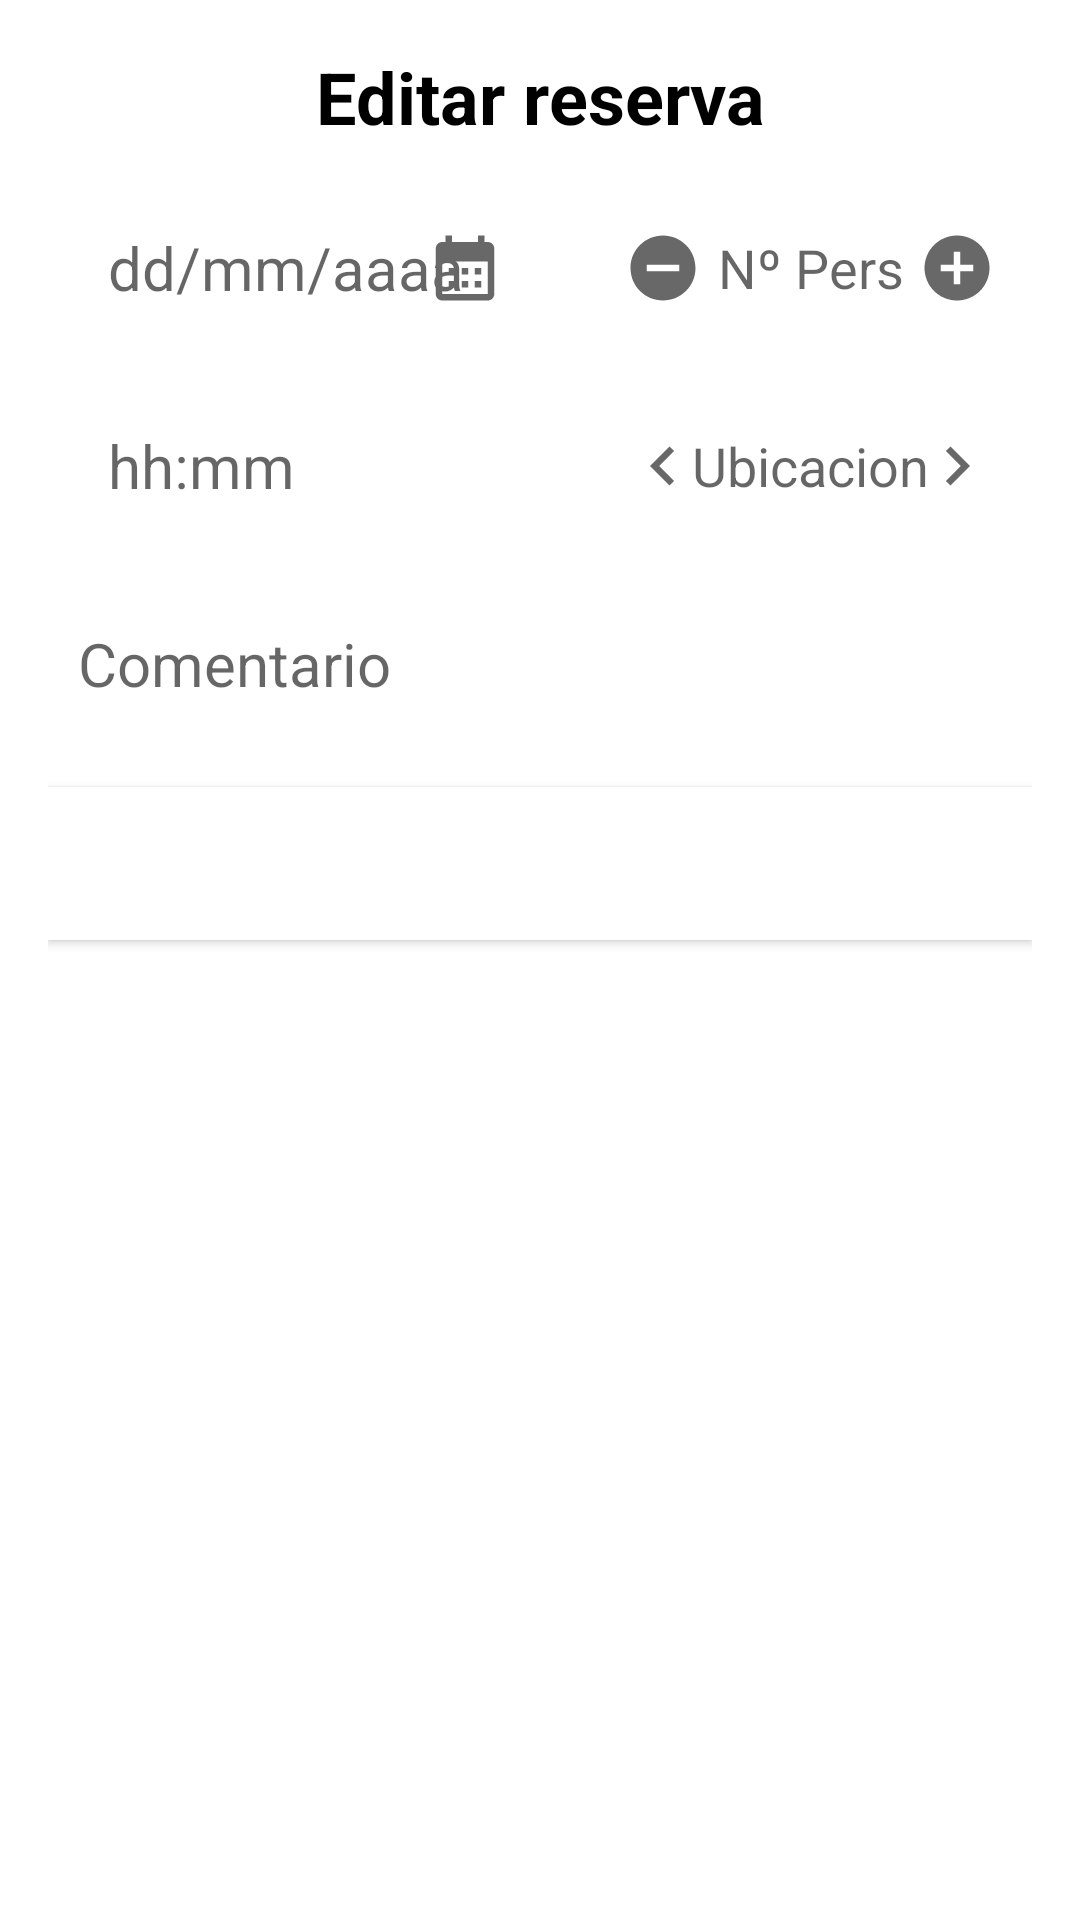

Icon bounding boxes for this 1080px x 1920px phone screenshot, format {"x1": x1, "y1": y1, "x2": x2, "y2": y2}:
less: {"x1": 630, "y1": 235, "x2": 696, "y2": 301}
